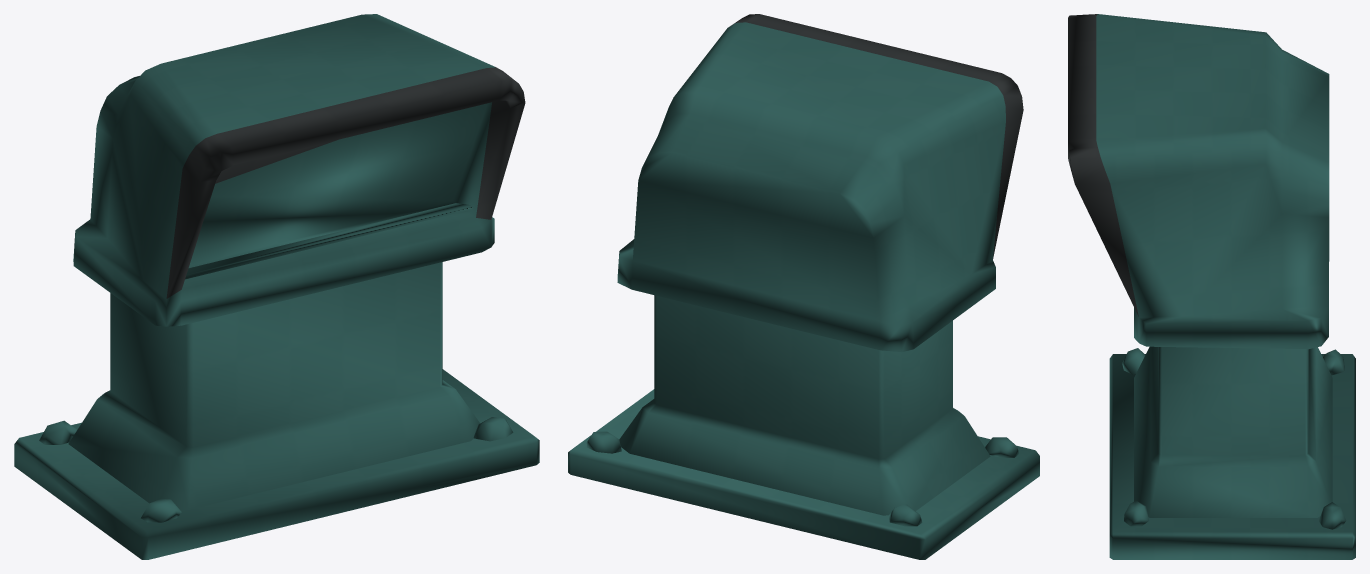
The model's file is P16_atlas_v1.glb.
3 renders of one model, left to right at view 1: azimuth 30°, elevation 25°; view 2: azimuth 150°, elevation 25°; view 3: azimuth 270°, elevation 25°, orthographic. The views are drawn at different scales.
Visible parts, largest first — view 1: P16_GeometryCandidate; view 2: P16_GeometryCandidate; view 3: P16_GeometryCandidate.
Boxes of the visible parts, bbox=[...] form: P16_GeometryCandidate: bbox=[14, 14, 539, 559]; P16_GeometryCandidate: bbox=[568, 14, 1039, 559]; P16_GeometryCandidate: bbox=[1068, 14, 1355, 559].
Size of the model in its own units: 3 by 3 by 2.
Materials: 1 (1 with a texture image).
